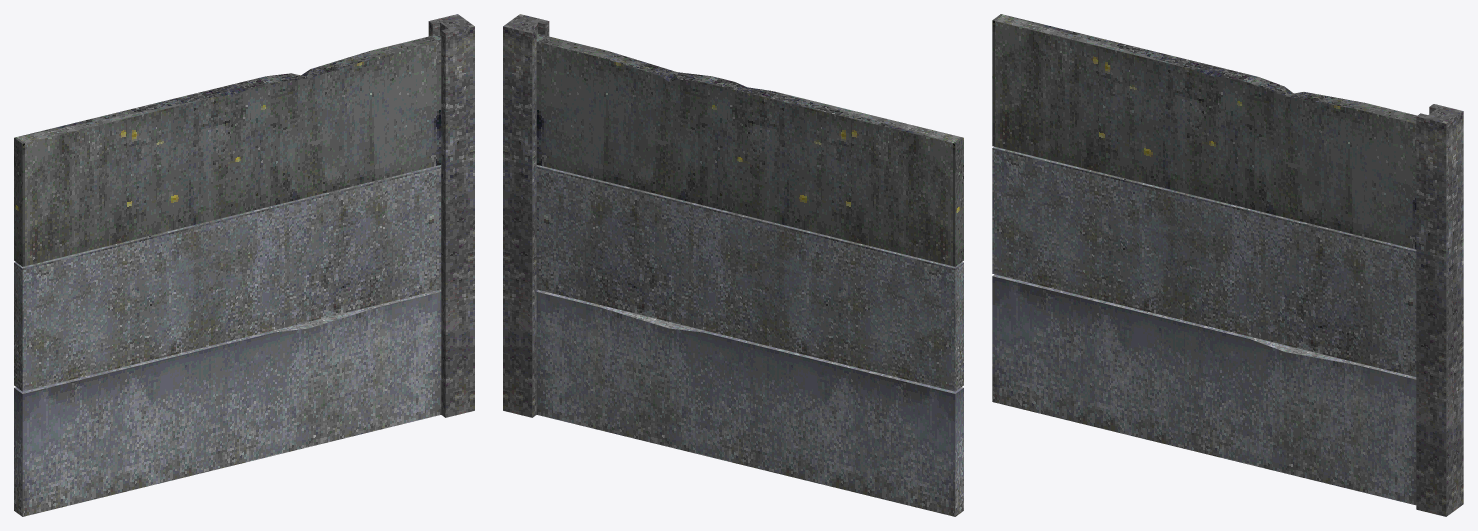
Rendered from plackard_closed.glb.
The picture shows the model from 3 angles, left to right: view 1: azimuth 30°, elevation 25°; view 2: azimuth 150°, elevation 25°; view 3: azimuth 330°, elevation 25°; orthographic projection. The views are drawn at different scales.
Visible parts, largest first — view 1: plackard_closed; view 2: plackard_closed; view 3: plackard_closed.
Boxes of the visible parts, <box> form: plackard_closed: <box>14,14,474,516</box>; plackard_closed: <box>503,14,963,516</box>; plackard_closed: <box>992,14,1463,516</box>.
Size of the model in its own units: 3.05 by 2.5 by 0.2.
1 material, 1 textured.
